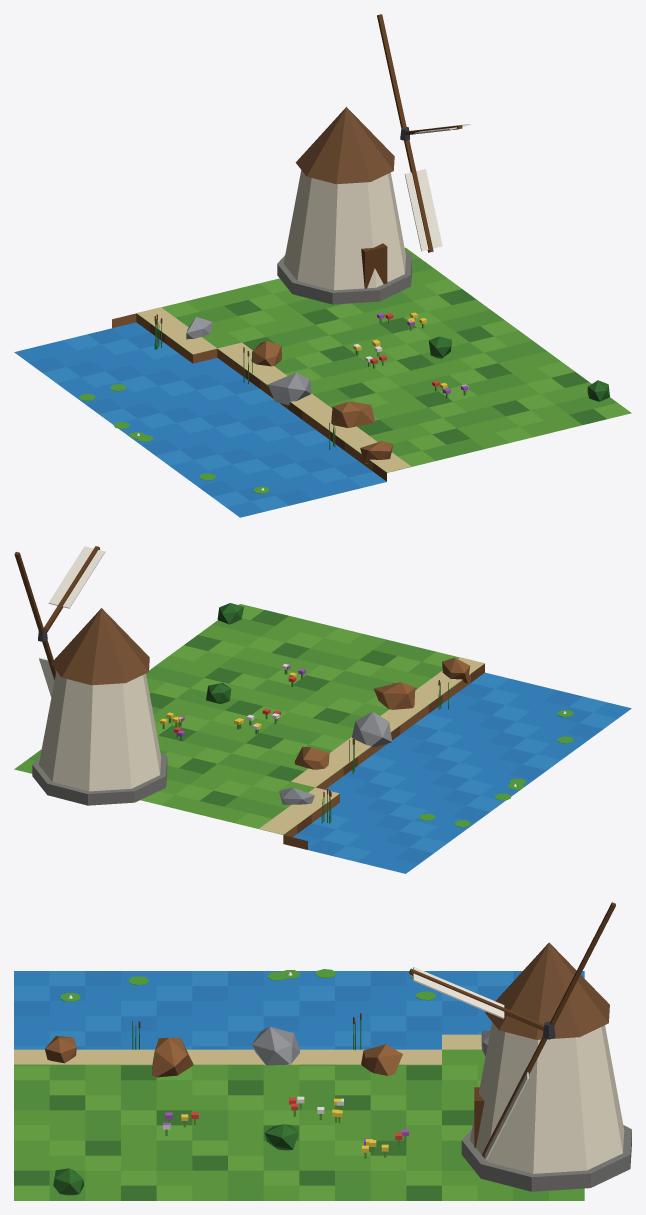
Rendered from chunk_4_10.glb.
3 renders of one model, top to bottom at view 1: azimuth 30°, elevation 25°; view 2: azimuth 150°, elevation 25°; view 3: azimuth 270°, elevation 25°, orthographic. The views are drawn at different scales.
Parts seen in each view (by area): view 1: chunk_4_10; view 2: chunk_4_10; view 3: chunk_4_10.
Part boxes in pixels (x1,y1,x2,y2): chunk_4_10: [14, 14, 631, 517]; chunk_4_10: [14, 546, 631, 873]; chunk_4_10: [14, 902, 631, 1200].
Bounding box in the file's own units: 16.08 × 9.52 × 17.32.
